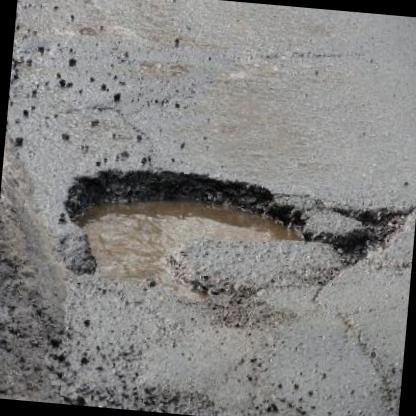pothole: (52, 158, 319, 312), (318, 199, 414, 276)
